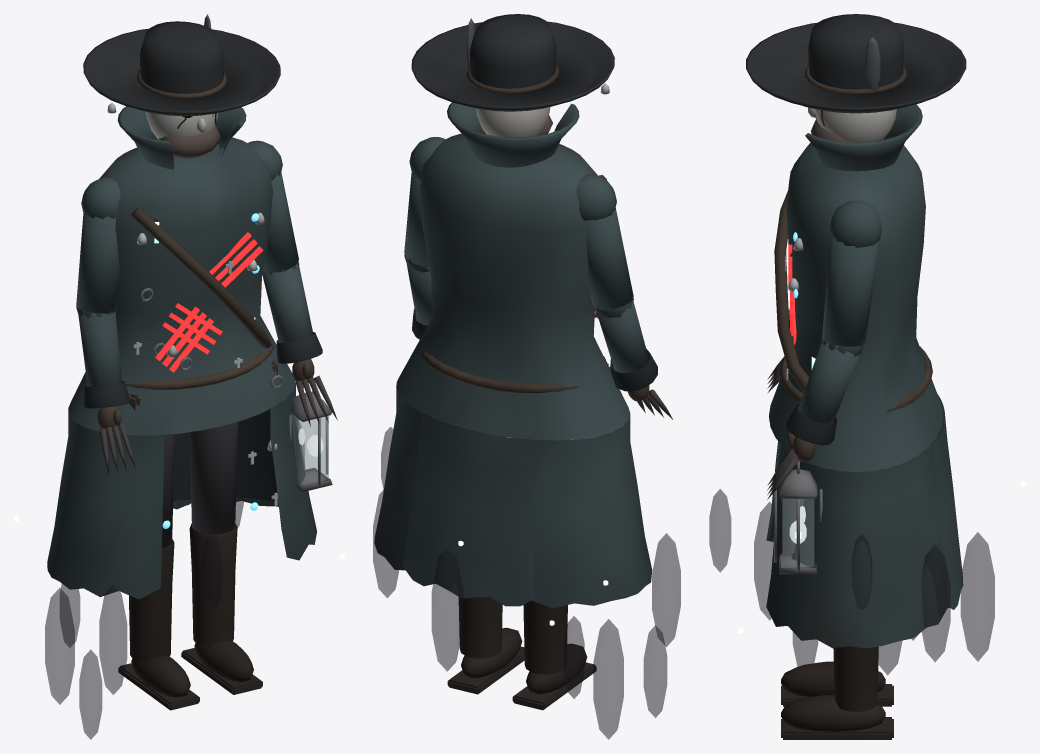
File: ghost_hunter.glb
3 views of the same model, side by side, from view 1: azimuth 30°, elevation 25°; view 2: azimuth 150°, elevation 25°; view 3: azimuth 270°, elevation 25° (orthographic). The views are drawn at different scales.
Visible parts, largest first — view 1: Hunter_Root_HunterCoat, Head_HunterHat, Hunter_Root_HSmoke, ArmA_HunterCoat, LegB_Boot, LegA_Boot, ArmB_HunterCoat, LegLegB, SkirtIn, Hunter_Root_HunterLeather, Hunter_Root_HWound, LanternGlass (+10 smaller); view 2: Hunter_Root_HunterCoat, CoatBack, Hunter_Root_HSmoke, Head_HunterHat, ArmA_HunterCoat, LegA_Boot, LegB_Boot, ArmB_HunterCoat, Head_WeatheredSkin, Hunter_Root_HunterLeather, CuffArmA, HatBand; view 3: Hunter_Root_HunterCoat, Head_HunterHat, Hunter_Root_HSmoke, ArmB_HunterCoat, LegB_Boot, Hunter_Root_HunterLeather, CoatBack, LegA_Boot, ArmB_CharmIron, Head_WeatheredSkin, LanternGlass, CuffArmB (+3 smaller).
Boxes of the visible parts, x1,y1,x2,y2 form: Hunter_Root_HunterCoat: (47, 106, 316, 599); Head_HunterHat: (83, 21, 280, 116); Hunter_Root_HSmoke: (45, 424, 304, 739); ArmA_HunterCoat: (76, 177, 122, 386); LegB_Boot: (181, 523, 262, 694); LegA_Boot: (118, 539, 199, 710); ArmB_HunterCoat: (248, 140, 313, 342); LegLegB: (189, 421, 238, 534); SkirtIn: (73, 394, 290, 501); Hunter_Root_HunterLeather: (125, 207, 277, 410); Hunter_Root_HWound: (155, 232, 263, 372); LanternGlass: (292, 414, 328, 485); Hunter_Root_HunterCoat: (374, 102, 652, 608); CoatBack: (403, 414, 534, 606); Hunter_Root_HSmoke: (373, 427, 680, 739); Head_HunterHat: (411, 14, 614, 111); ArmA_HunterCoat: (576, 174, 649, 373); LegA_Boot: (512, 600, 596, 710); LegB_Boot: (447, 597, 524, 694); ArmB_HunterCoat: (404, 137, 445, 325); Head_WeatheredSkin: (476, 107, 550, 137); Hunter_Root_HunterLeather: (418, 175, 610, 393); CuffArmA: (610, 348, 657, 391); HatBand: (466, 64, 559, 93); Hunter_Root_HunterCoat: (766, 104, 948, 648); Head_HunterHat: (746, 14, 966, 113); Hunter_Root_HSmoke: (709, 489, 994, 675); ArmB_HunterCoat: (797, 200, 882, 423); LegB_Boot: (781, 646, 893, 739); Hunter_Root_HunterLeather: (774, 191, 932, 412); CoatBack: (933, 394, 963, 609); LegA_Boot: (781, 661, 893, 706); ArmB_CharmIron: (774, 460, 822, 574); Head_WeatheredSkin: (808, 107, 896, 142); LanternGlass: (782, 498, 813, 566); CuffArmB: (785, 404, 837, 445).
Bounding box in the file's own units: 0.7687 × 1.92 × 0.7661.
